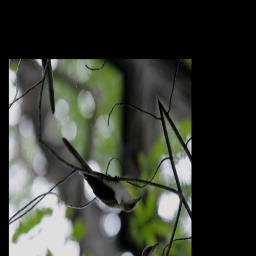Cuckoo: (59, 101, 145, 240)
